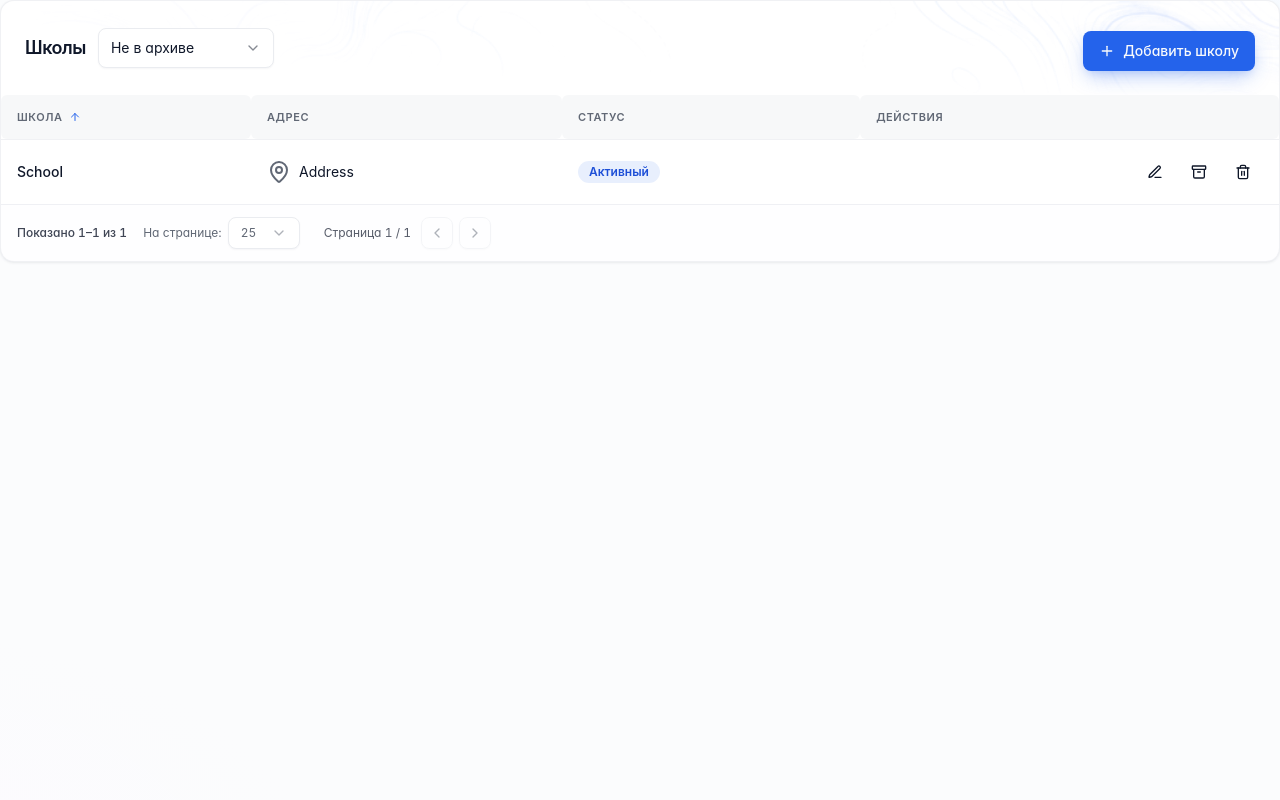
Scenario: keeps the confirmation open with a business validation error when active groups block the archive
Click the button named "Архивировать школу": (1199, 172) [1179,152,1219,192]
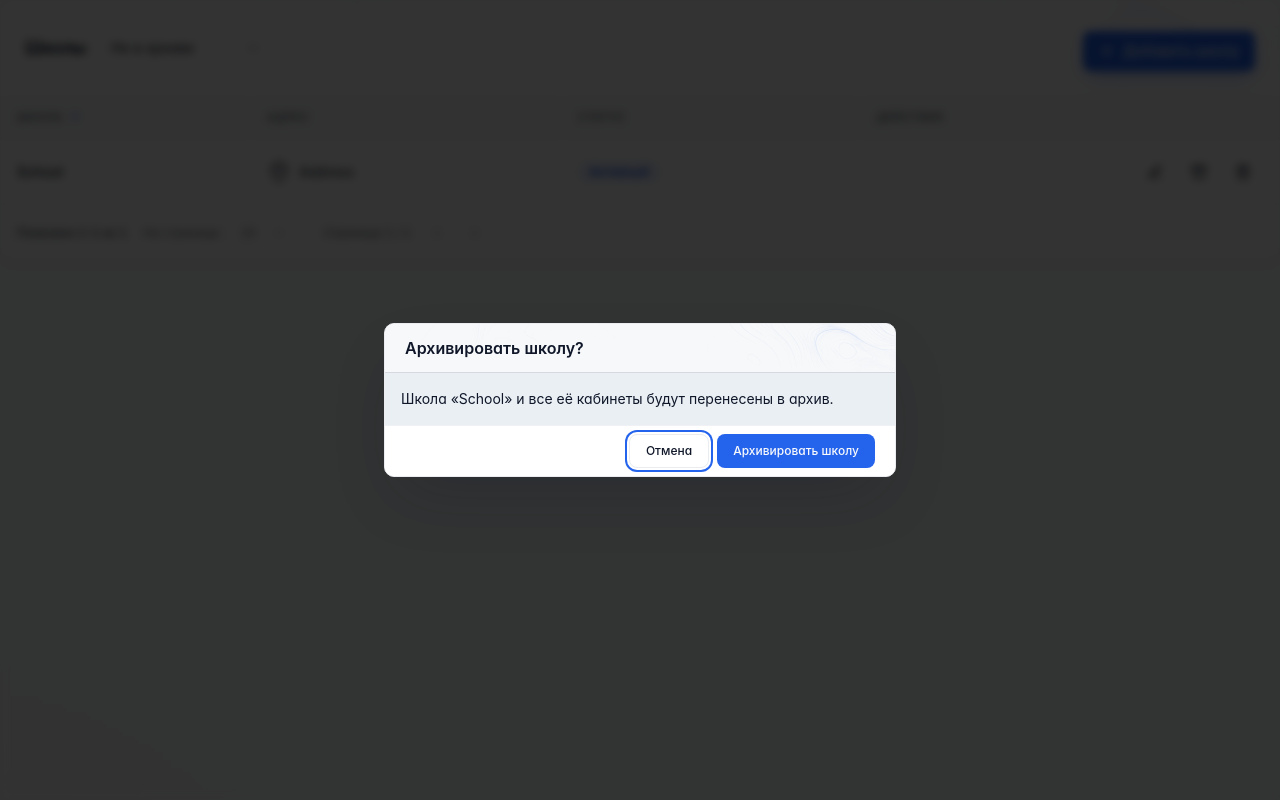
Click the button "Архивировать школу": (796, 451) [717,434,875,468]
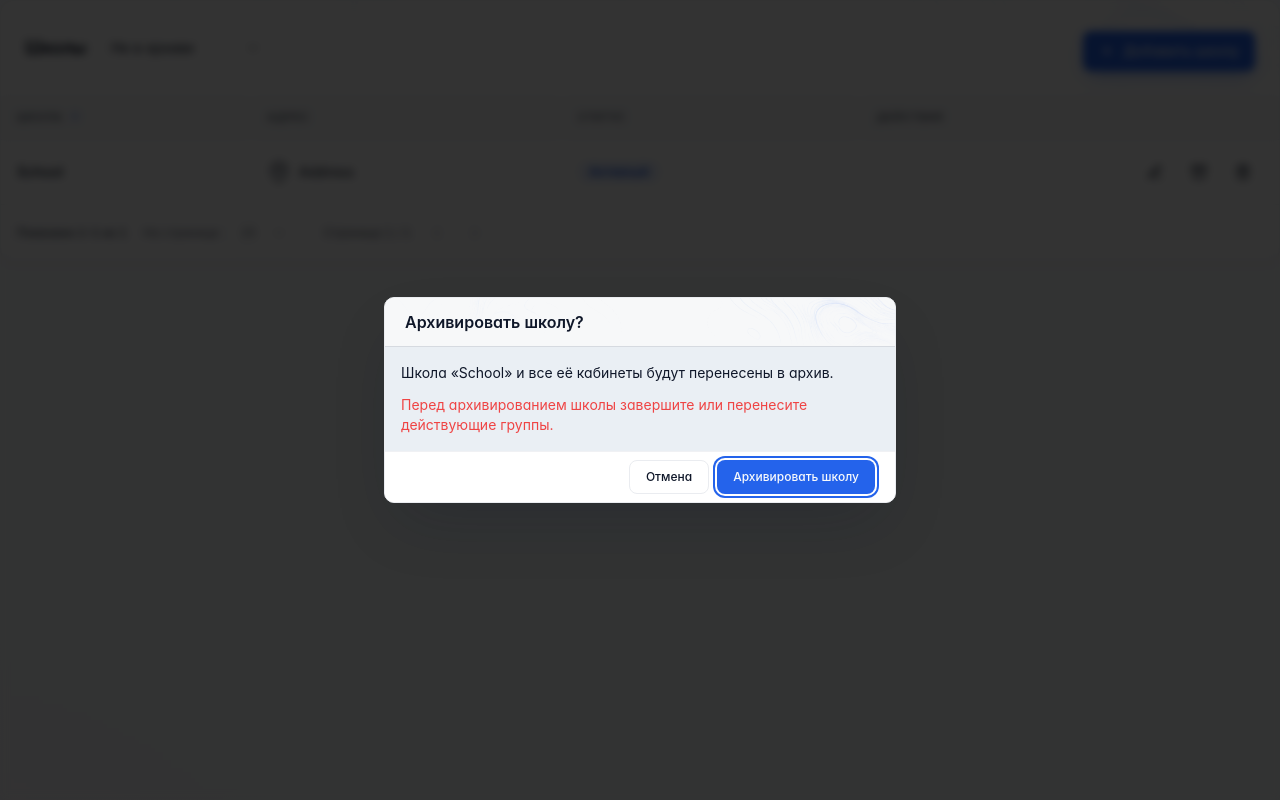
Check: the message reads "Перед архивированием школы завершите или перенесите действующие группы.", box [401,396,807,433]
